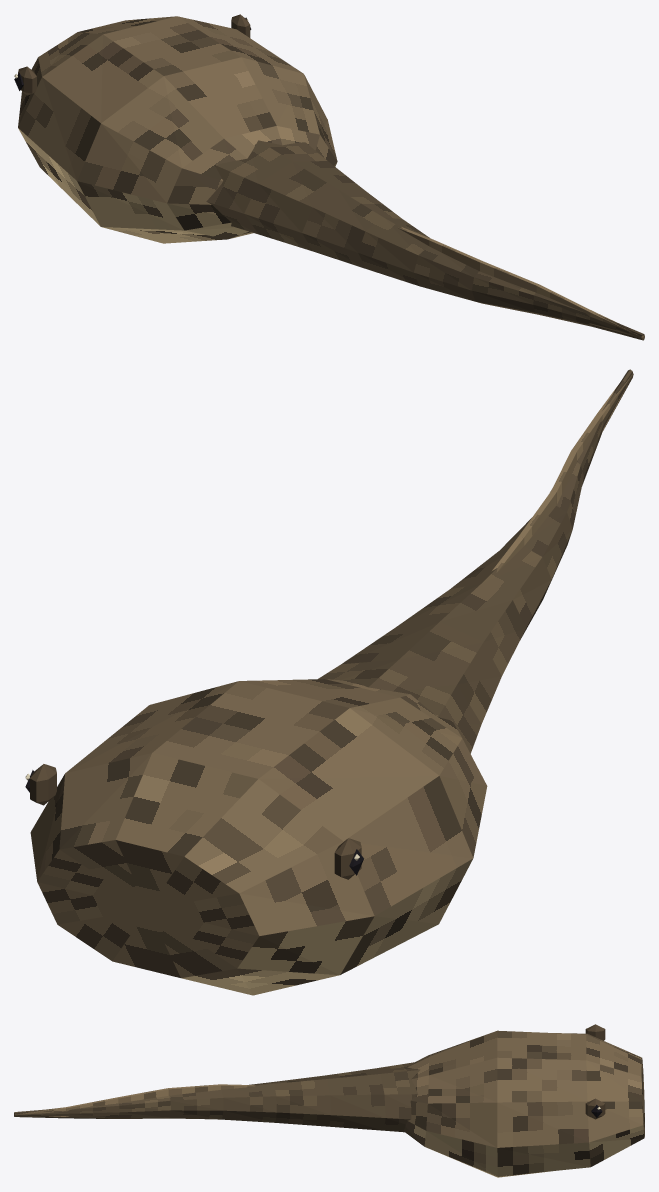
Rendered from mon_odd_bigtad.glb.
3 views of the same model, one above another, from view 1: azimuth 30°, elevation 25°; view 2: azimuth 150°, elevation 25°; view 3: azimuth 270°, elevation 25° (orthographic). The views are drawn at different scales.
Parts seen in each view (by area): view 1: closed_body; view 2: closed_body; view 3: closed_body.
Boxes of the visible parts, <box> form: closed_body: <box>14,14,644,340</box>; closed_body: <box>25,369,633,995</box>; closed_body: <box>14,1024,644,1177</box>.
Bounding box in the file's own units: 0.2246 × 0.1436 × 0.6847.
Materials: 1 (1 with a texture image).
